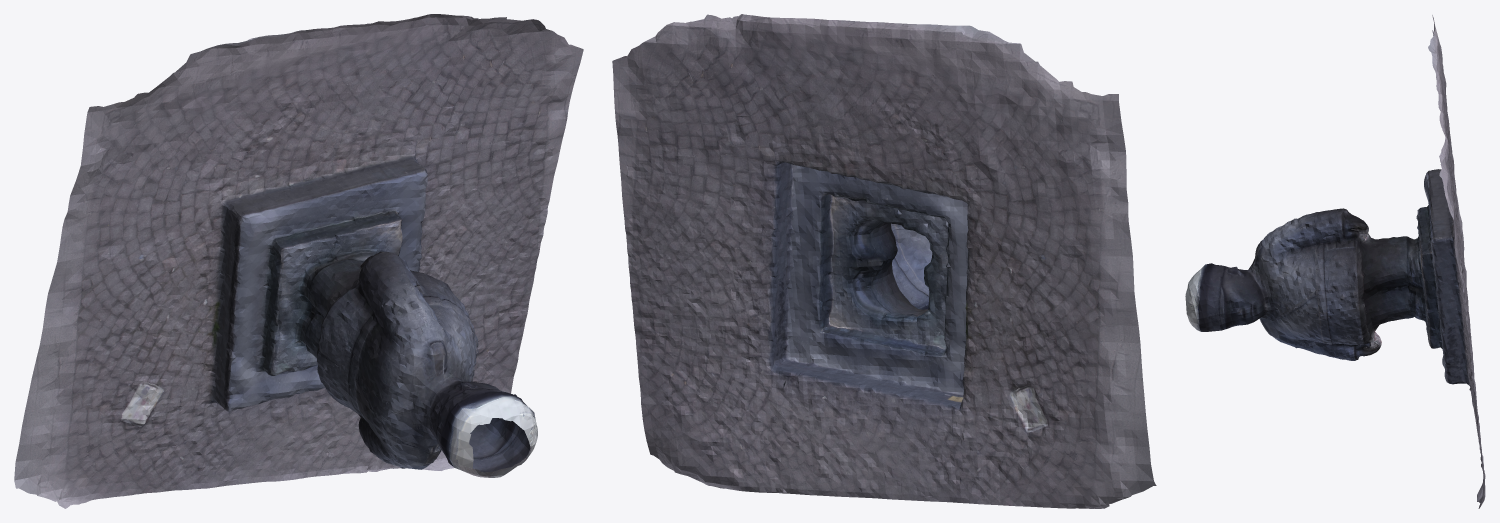
3 views of the same model, side by side, from view 1: azimuth 30°, elevation 25°; view 2: azimuth 150°, elevation 25°; view 3: azimuth 270°, elevation 25° (orthographic). The views are drawn at different scales.
Size of the model in its own units: 12.83 by 11.06 by 8.12.
Materials: 1 (1 with a texture image).
